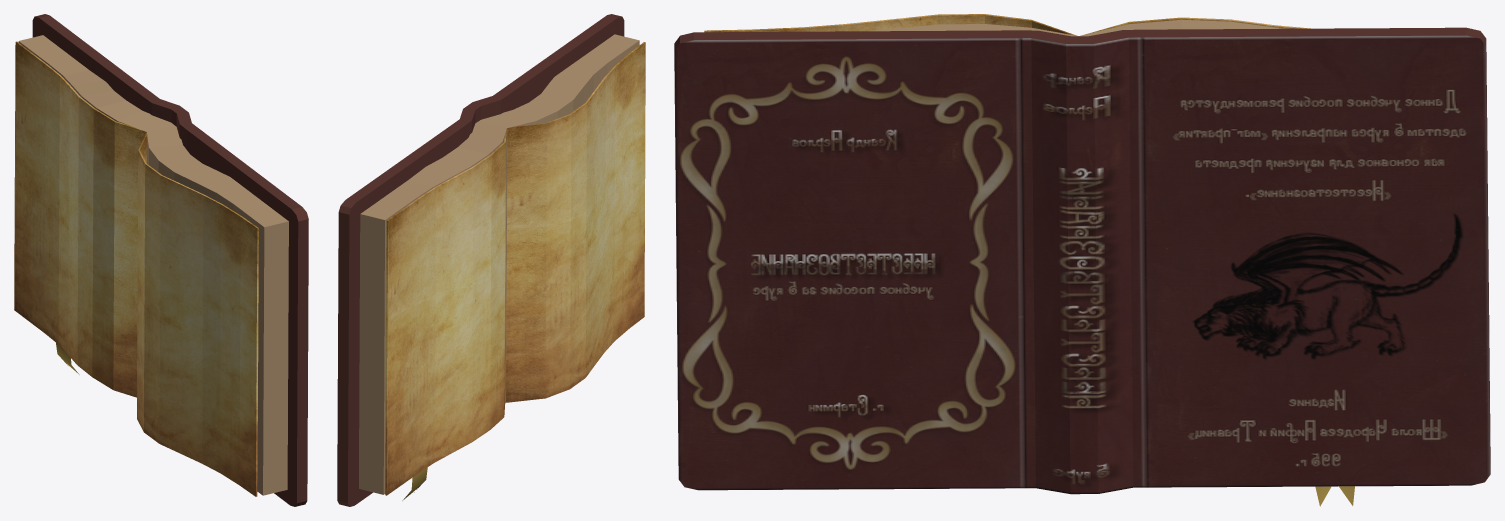
Rendered from book.glb.
The picture shows the model from 3 angles, left to right: view 1: azimuth 30°, elevation 25°; view 2: azimuth 150°, elevation 25°; view 3: azimuth 270°, elevation 25°; orthographic projection. The views are drawn at different scales.
Visible parts, largest first — view 1: pageleft, pageRight, object 2, object 5; view 2: pageRight, pageleft, object 2, object 5; view 3: object 4, object 5, pageRight, object 2.
Part boxes in pixels (x1,y1,x2,y2): pageleft: (14, 41, 144, 397); pageRight: (137, 132, 258, 496); object 2: (18, 35, 288, 495); object 5: (32, 14, 308, 506); pageRight: (506, 42, 645, 402); pageleft: (385, 129, 506, 495); object 2: (359, 34, 639, 494); object 5: (337, 14, 624, 506); object 4: (674, 35, 1490, 494); object 5: (674, 27, 1490, 463); pageRight: (704, 14, 1076, 35); object 2: (868, 19, 1285, 36).
Size of the model in its own units: 0.0708 by 0.3069 by 0.4684.
Materials: 6 (3 with a texture image).
